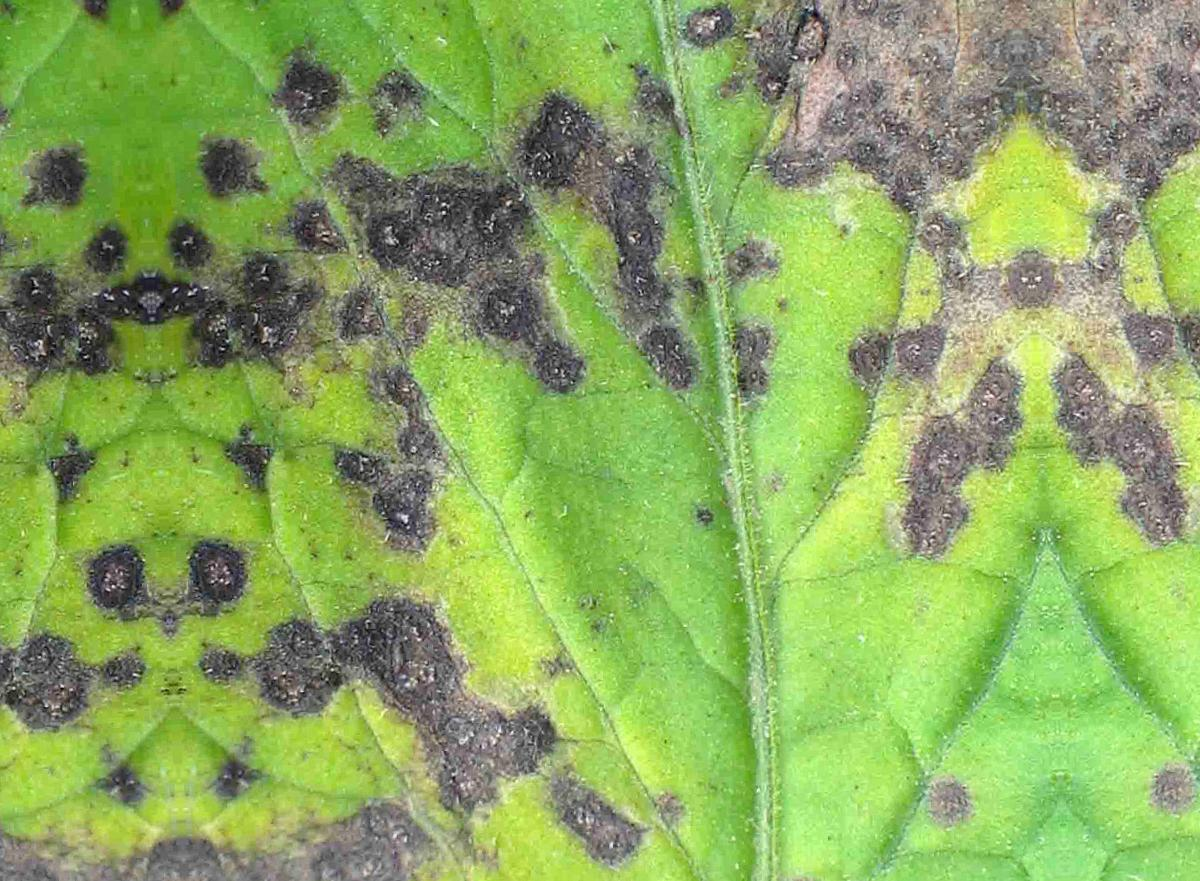Tomato Septoria leaf spot: (141, 0, 1074, 881)
